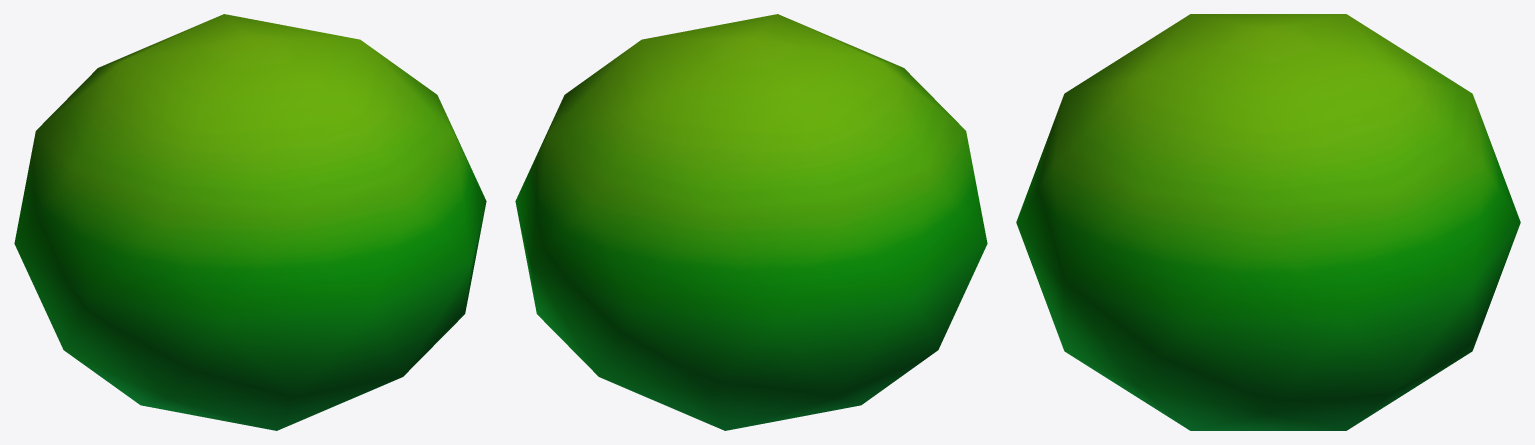
The model's file is decorSmall-forest-30.glb.
3 renders of one model, left to right at view 1: azimuth 30°, elevation 25°; view 2: azimuth 150°, elevation 25°; view 3: azimuth 270°, elevation 25°, orthographic. The views are drawn at different scales.
Parts seen in each view (by area): view 1: piece; view 2: piece; view 3: piece.
Part boxes in pixels (x1,y1,x2,y2): piece: [14, 14, 486, 430]; piece: [515, 14, 987, 430]; piece: [1016, 14, 1520, 430].
Size of the model in its own units: 0.647 by 0.528 by 0.6803.
Materials: 1 (1 with a texture image).
